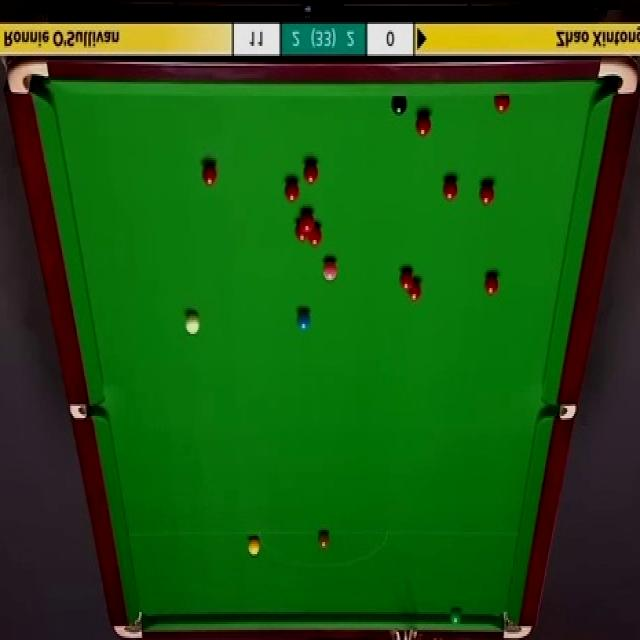black-ball: (392, 95, 408, 117)
blue-ball: (296, 311, 312, 332)
brown-ball: (318, 532, 330, 552)
green-ball: (450, 610, 463, 629)
pink-ball: (322, 256, 339, 281)
red-ball: (303, 160, 320, 189), (442, 176, 460, 202), (398, 267, 415, 294), (415, 110, 432, 136), (281, 179, 301, 201), (406, 279, 423, 304), (479, 182, 496, 206), (484, 271, 498, 296), (294, 218, 308, 242), (202, 166, 218, 187), (309, 222, 322, 246), (493, 97, 511, 114), (300, 210, 316, 229)
white-ball: (185, 313, 202, 335)
yellow-ball: (247, 538, 259, 554)
